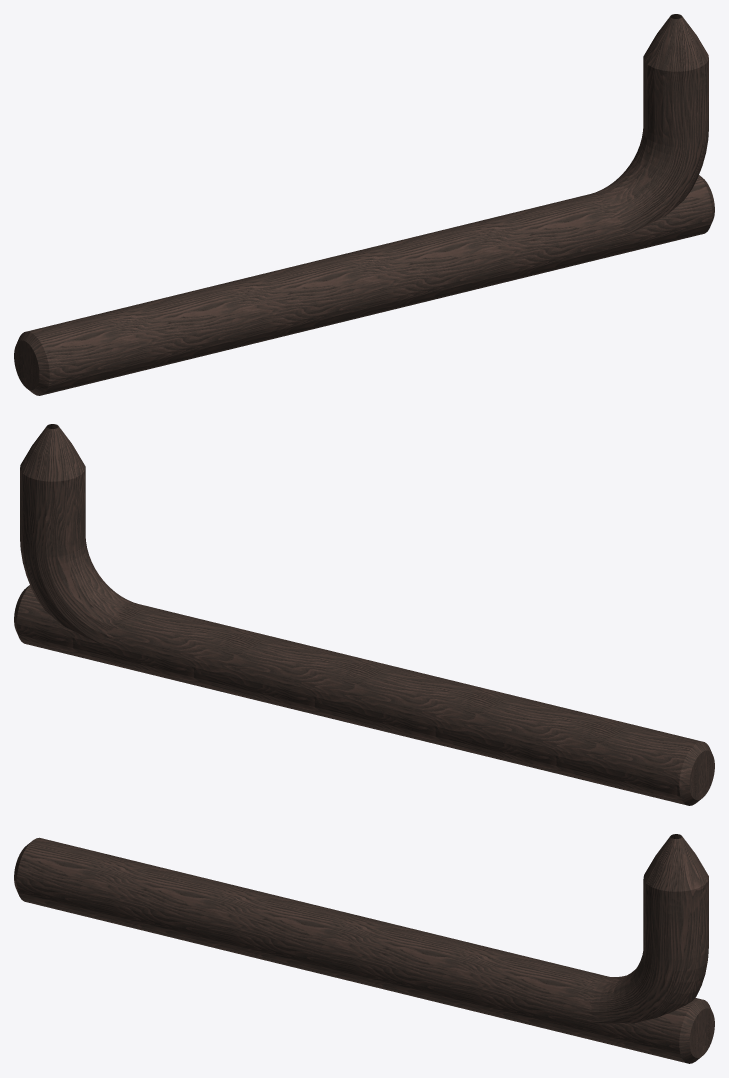
File: stick_vis.obj
3 views of the same model, one above another, from view 1: azimuth 30°, elevation 25°; view 2: azimuth 150°, elevation 25°; view 3: azimuth 330°, elevation 25° (orthographic).
Bounding box in the file's own units: 0.261 × 0.081 × 0.022.
Materials: 1 (1 with a texture image).
